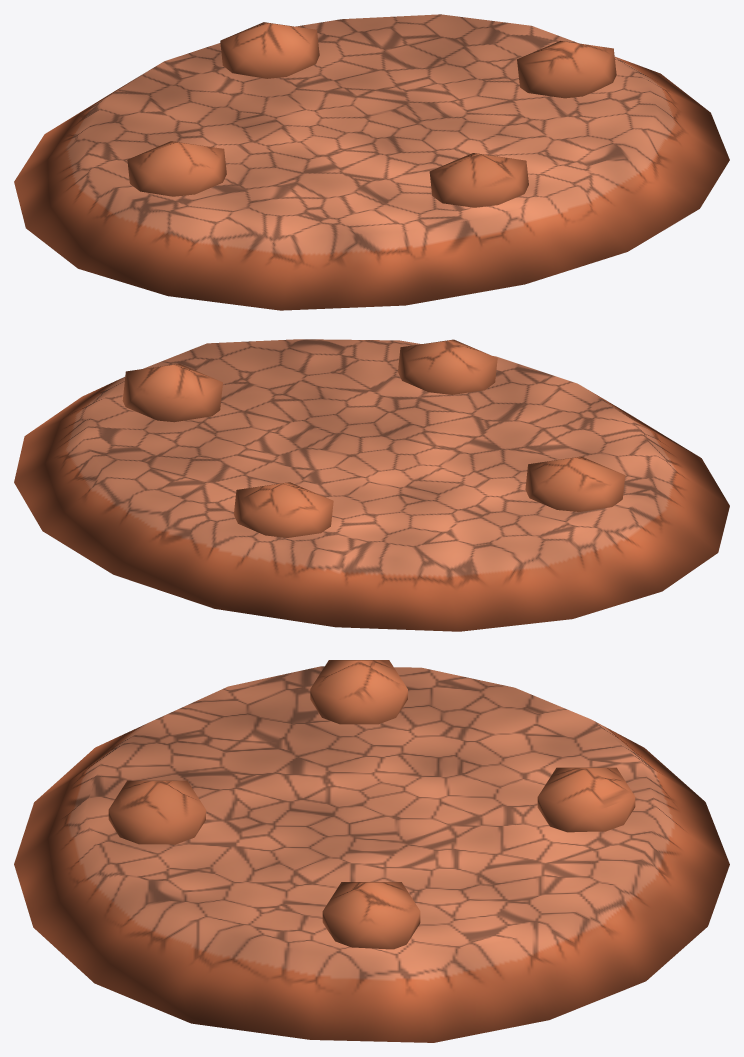
Rendered from clay_pit.glb.
The picture shows the model from 3 angles, top to bottom: view 1: azimuth 30°, elevation 25°; view 2: azimuth 150°, elevation 25°; view 3: azimuth 270°, elevation 25°; orthographic projection. The views are drawn at different scales.
Visible parts, largest first — view 1: ClayPit; view 2: ClayPit; view 3: ClayPit.
Boxes of the visible parts, x1=… form: ClayPit: x1=14, y1=14, x2=729, y2=310; ClayPit: x1=14, y1=339, x2=729, y2=631; ClayPit: x1=14, y1=660, x2=729, y2=1042.
Size of the model in its own units: 1.77 by 0.2162 by 1.5.
1 material, 1 textured.
